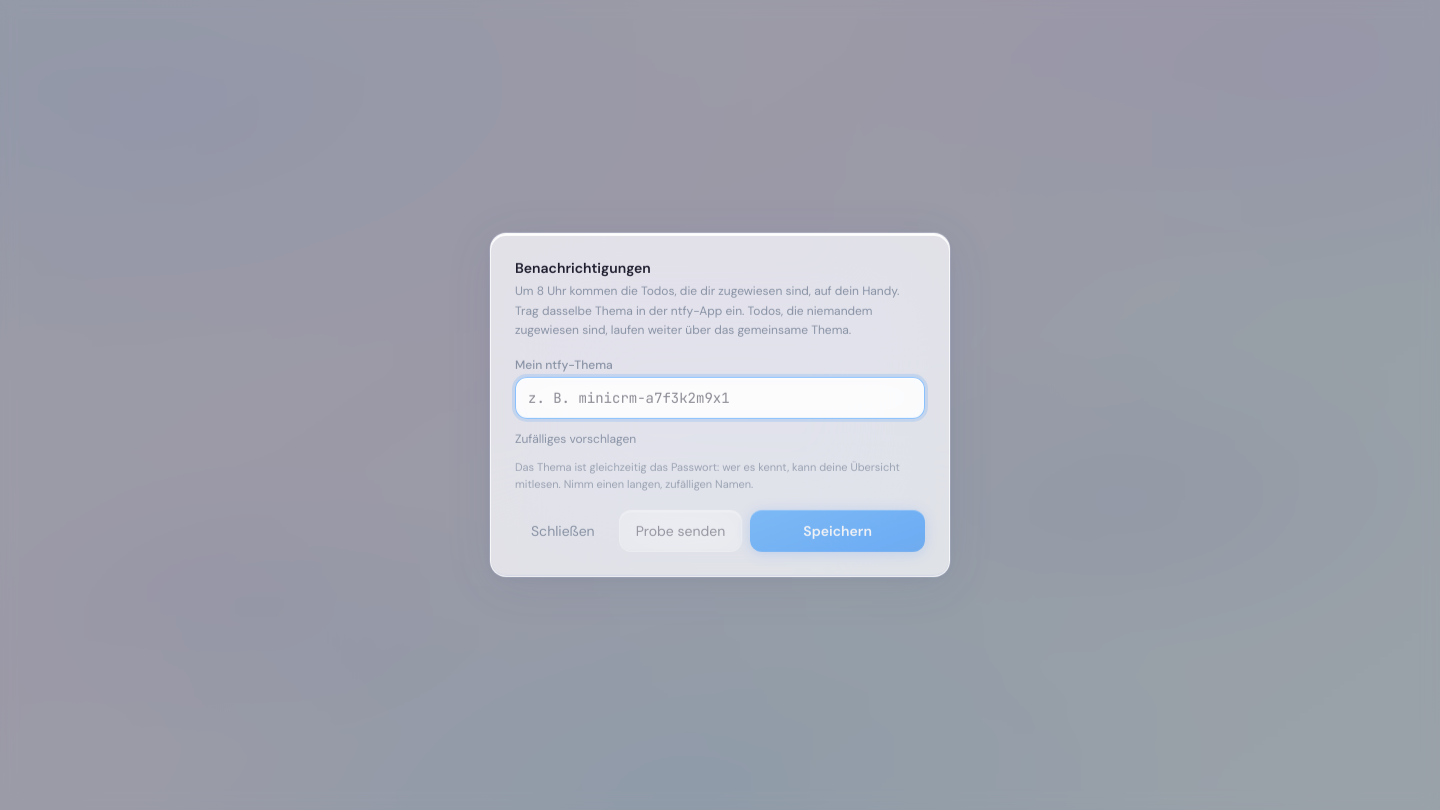
Test: NotificationSettingsDialog › lehnt ein zu kurzes Thema ab, ohne den Server zu fragen
The image size is (1440, 810).
In the field labelled "Mein ntfy-Thema": coordinates (720, 397) [515,376,925,418], type "kurz"
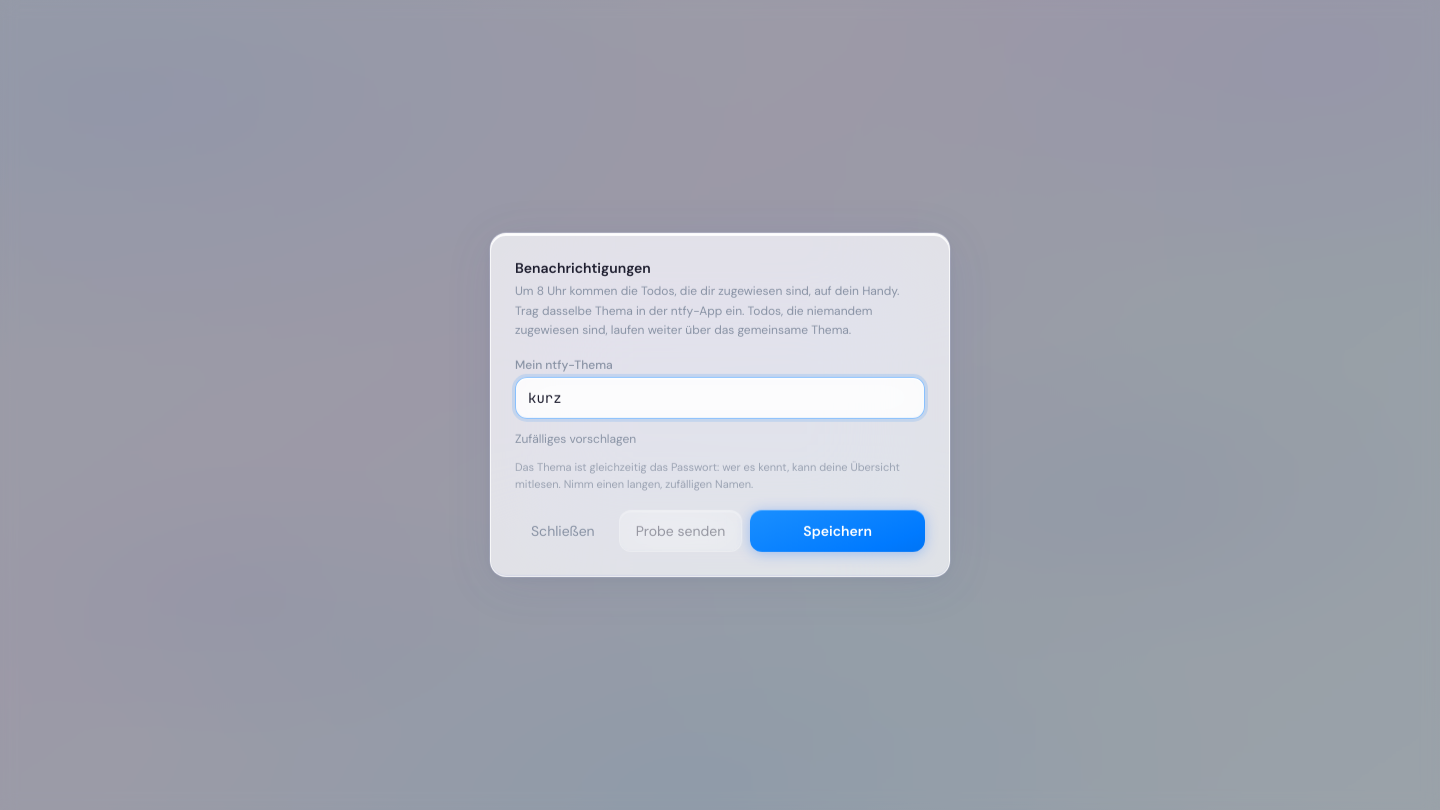
Click the button "Speichern": coordinates (838, 531) [750,510,925,552]
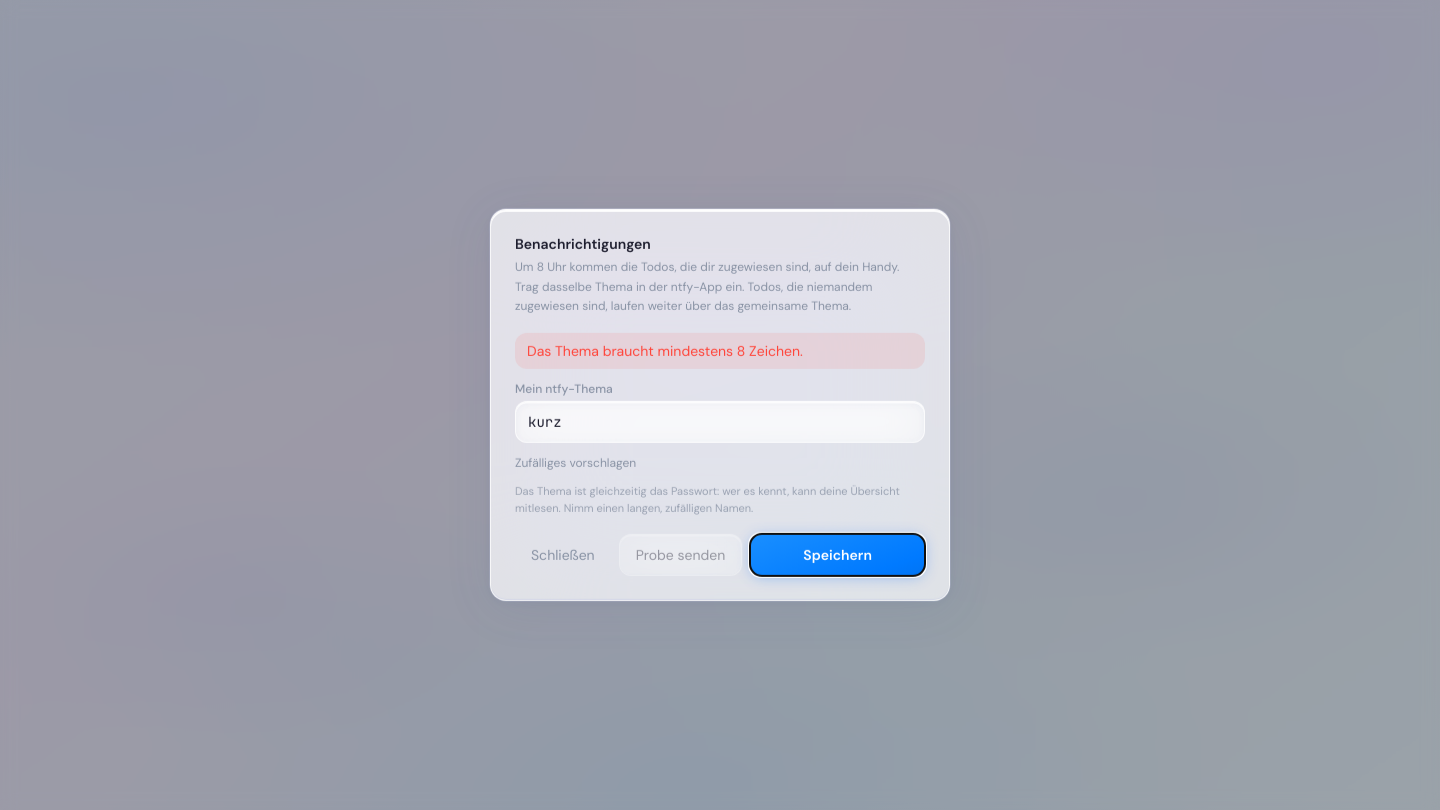
Now the message shows "mindestens 8", box [527,341,803,359]
